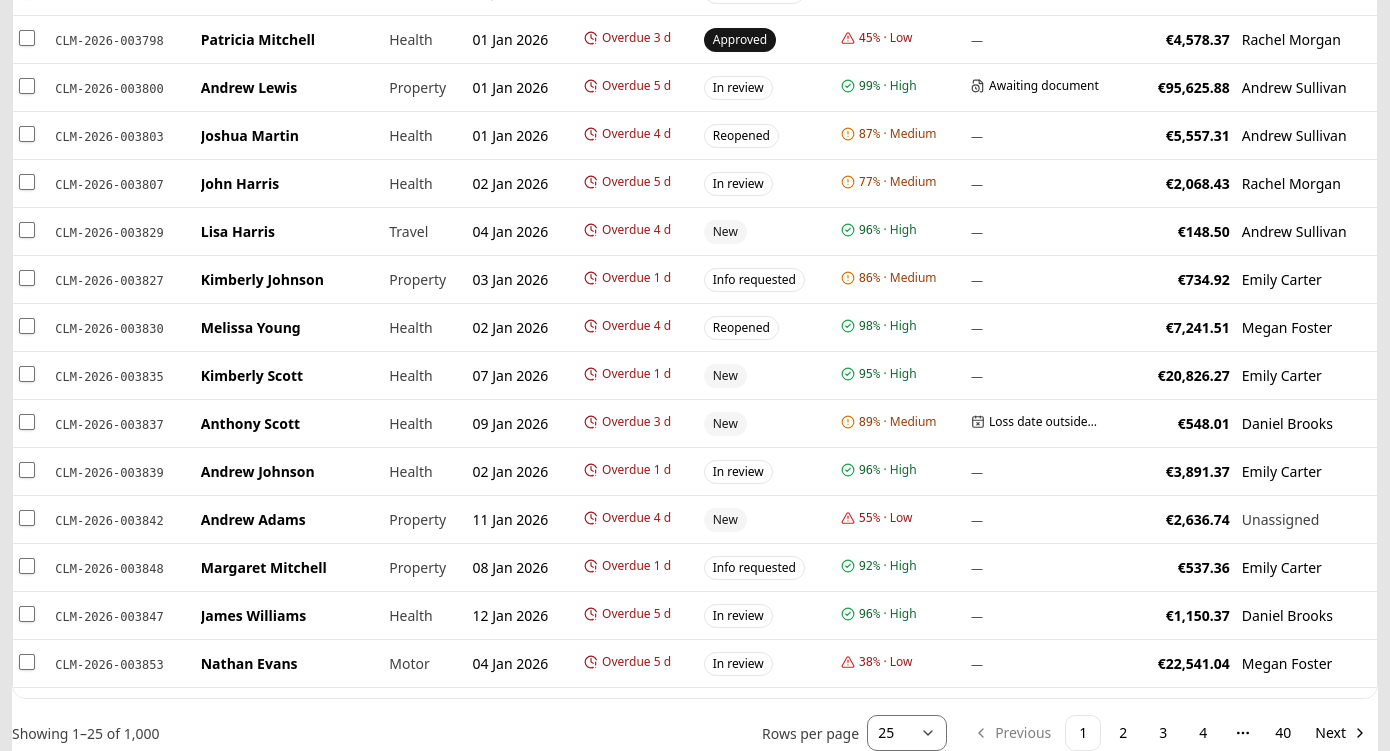
Test: ClaimsTable › pagination › a page number jumps to that page
This screenshot has width=1390, height=751.
(page scrolled)
Step 1. Click the button named "Page 3" → (1163, 733), box [1145, 715, 1181, 750]
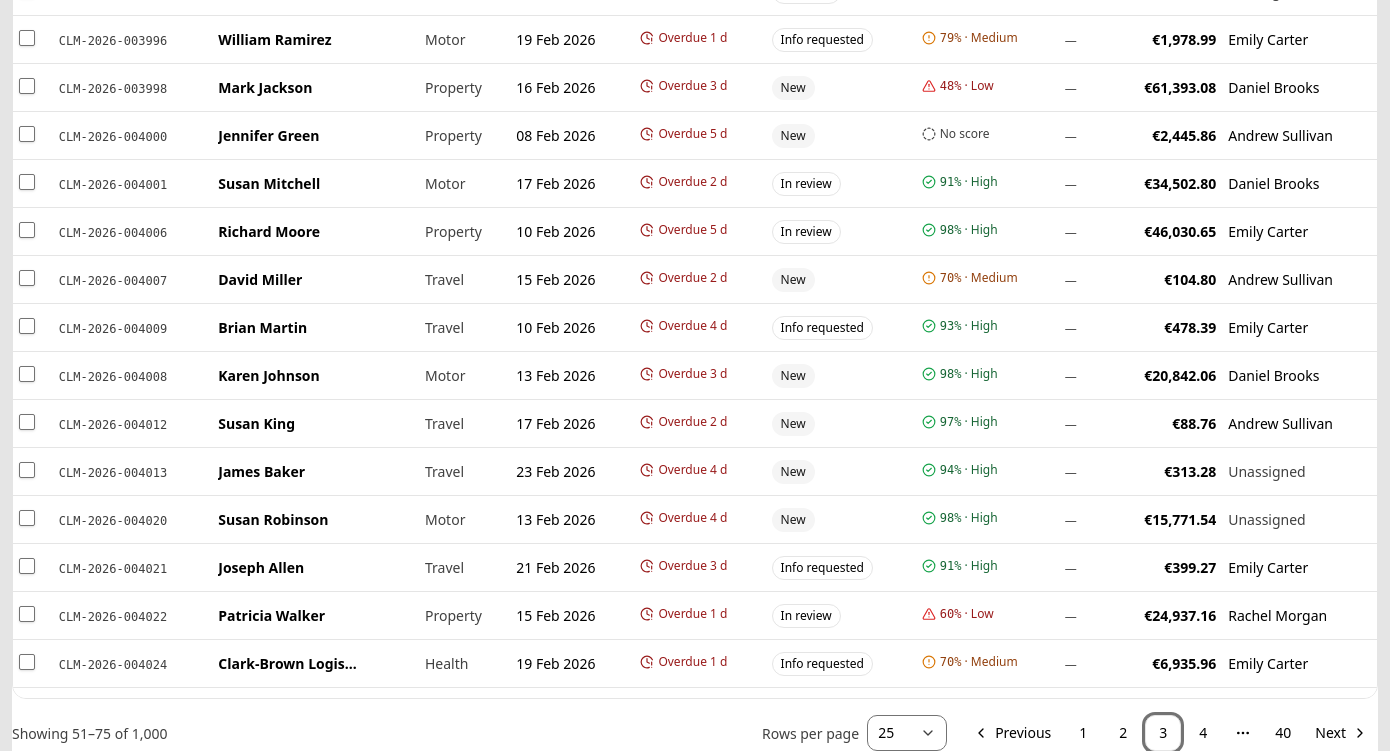
Result: the text "Showing 51–75 of 1,000" is shown at [12, 722, 168, 744]
